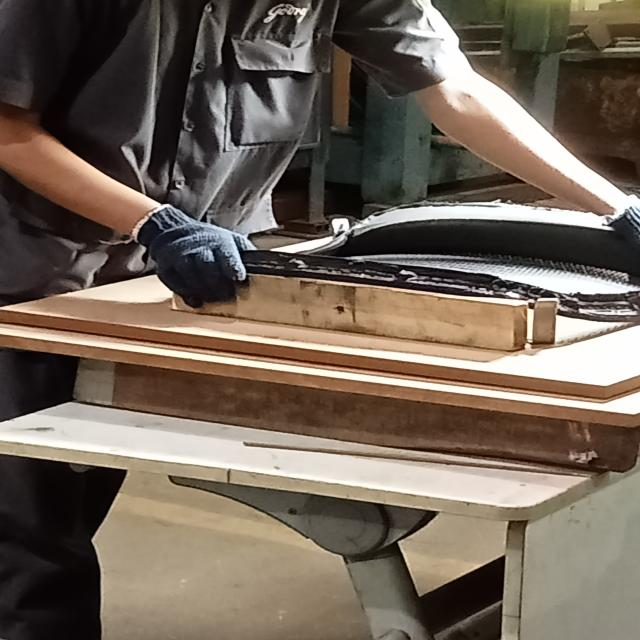Gloves-Detection: (139, 212, 244, 304)
